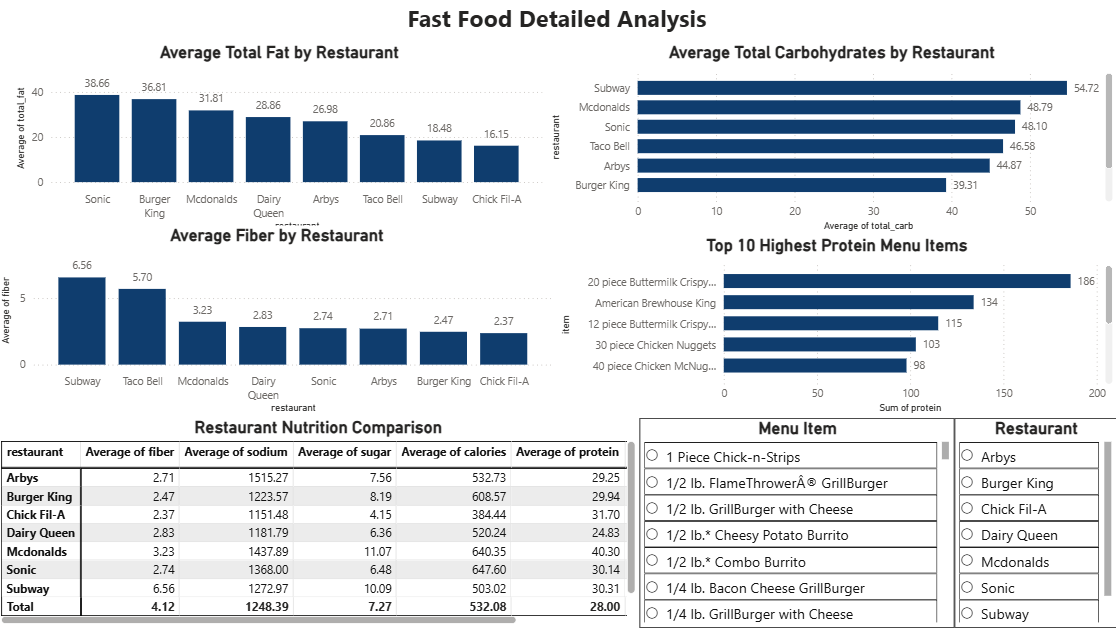

The dashboard page shown, as its layout file describes it:
{"tool":"powerbi","page":{"name":"Page 2","canvas":[1280,720],"ordinal":1},"visuals":[{"type":"clusteredColumnChart","title":"Average Total Fat by Restaurant","fields":{"Category":["Food_.restaurant"],"Y":["Avg(Food_.total_fat)"]},"box":[17.1,51.4,611.4,220],"z":0},{"type":"textbox","box":[0,0,1280,51.4],"z":1000},{"type":"clusteredBarChart","title":"Average Total Carbohydrates by Restaurant","fields":{"Category":["Food_.restaurant"],"Y":["Avg(Food_.total_carb)"]},"box":[628.6,51.4,651.4,220],"z":2000},{"type":"clusteredColumnChart","title":"Average Fiber by Restaurant","fields":{"Category":["Food_.restaurant"],"Y":["Avg(Food_.fiber)"]},"box":[0,260,640,220],"z":3000},{"type":"clusteredBarChart","title":"Top 10 Highest Protein Menu Items","fields":{"Category":["Food_.item"],"Y":["Sum(Food_.protein)"]},"box":[640,271.4,640,208.6],"z":4000},{"type":"pivotTable","title":"Restaurant Nutrition Comparison","fields":{"Rows":["Food_.restaurant"],"Values":["Avg(Food_.fiber)","Avg(Food_.sodium)","Avg(Food_.sugar)","Avg(Food_.calories)","Avg(Food_.protein)","Avg(Food_.total_fat)"]},"box":[0,480,734.3,240],"z":5000},{"type":"listSlicer","title":"Menu Item","fields":{"Values":["Food_.item"]},"box":[734.3,480,360,240],"z":6000},{"type":"listSlicer","title":"Restaurant","fields":{"Values":["Food_.restaurant"]},"box":[1094.3,480,185.7,240],"z":7000}]}

Visuals, with their boxes in screenshot pixels (x1, y1, x2, y2), scaled from the page's 1280x720 canvas onto the 1116x628 screenshot:
"Average Total Fat by Restaurant" clusteredColumnChart: [15,45,548,237]
textbox: [0,0,1115,45]
"Average Total Carbohydrates by Restaurant" clusteredBarChart: [548,45,1115,237]
"Average Fiber by Restaurant" clusteredColumnChart: [0,227,558,419]
"Top 10 Highest Protein Menu Items" clusteredBarChart: [558,237,1115,419]
"Restaurant Nutrition Comparison" pivotTable: [0,419,640,627]
"Menu Item" listSlicer: [640,419,954,627]
"Restaurant" listSlicer: [954,419,1115,627]
